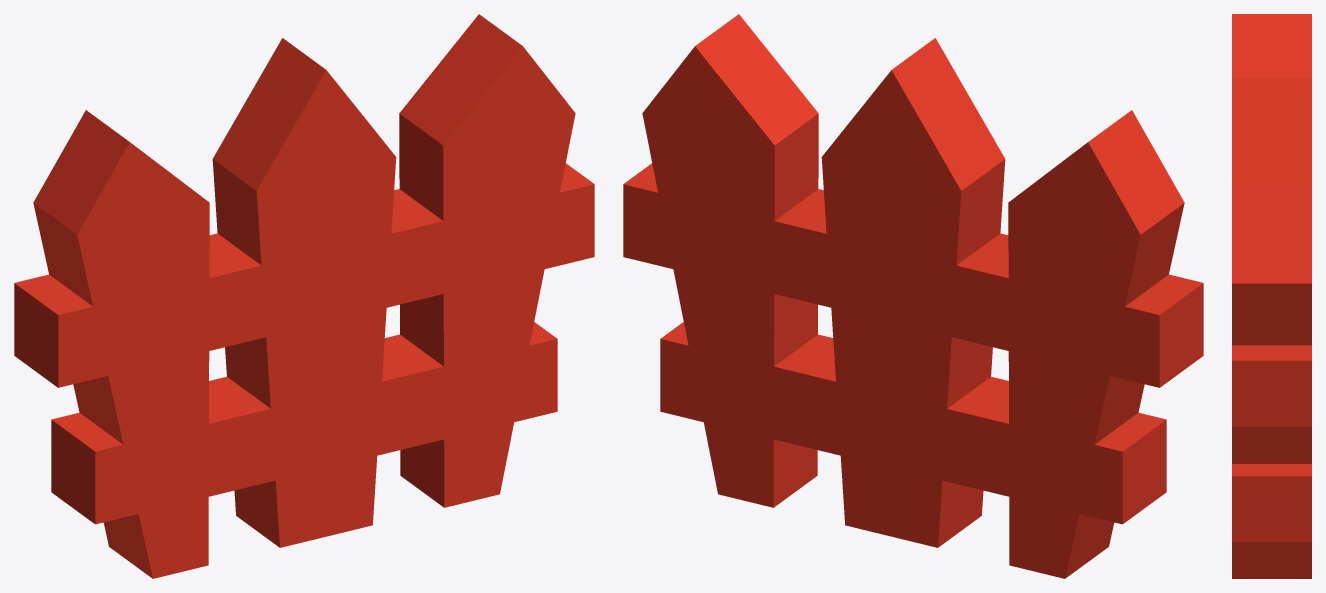
The model's file is Icon_Fence_03.fbx.
The picture shows the model from 3 angles, left to right: view 1: azimuth 30°, elevation 25°; view 2: azimuth 150°, elevation 25°; view 3: azimuth 270°, elevation 25°; orthographic projection. The views are drawn at different scales.
Parts seen in each view (by area): view 1: Icon_Fence_03; view 2: Icon_Fence_03; view 3: Icon_Fence_03.
Part boxes in pixels (x1,y1,x2,y2): Icon_Fence_03: [14, 14, 594, 578]; Icon_Fence_03: [623, 14, 1203, 578]; Icon_Fence_03: [1232, 14, 1311, 578].
Bounding box in the file's own units: 84.98 × 70.64 × 12.06.
